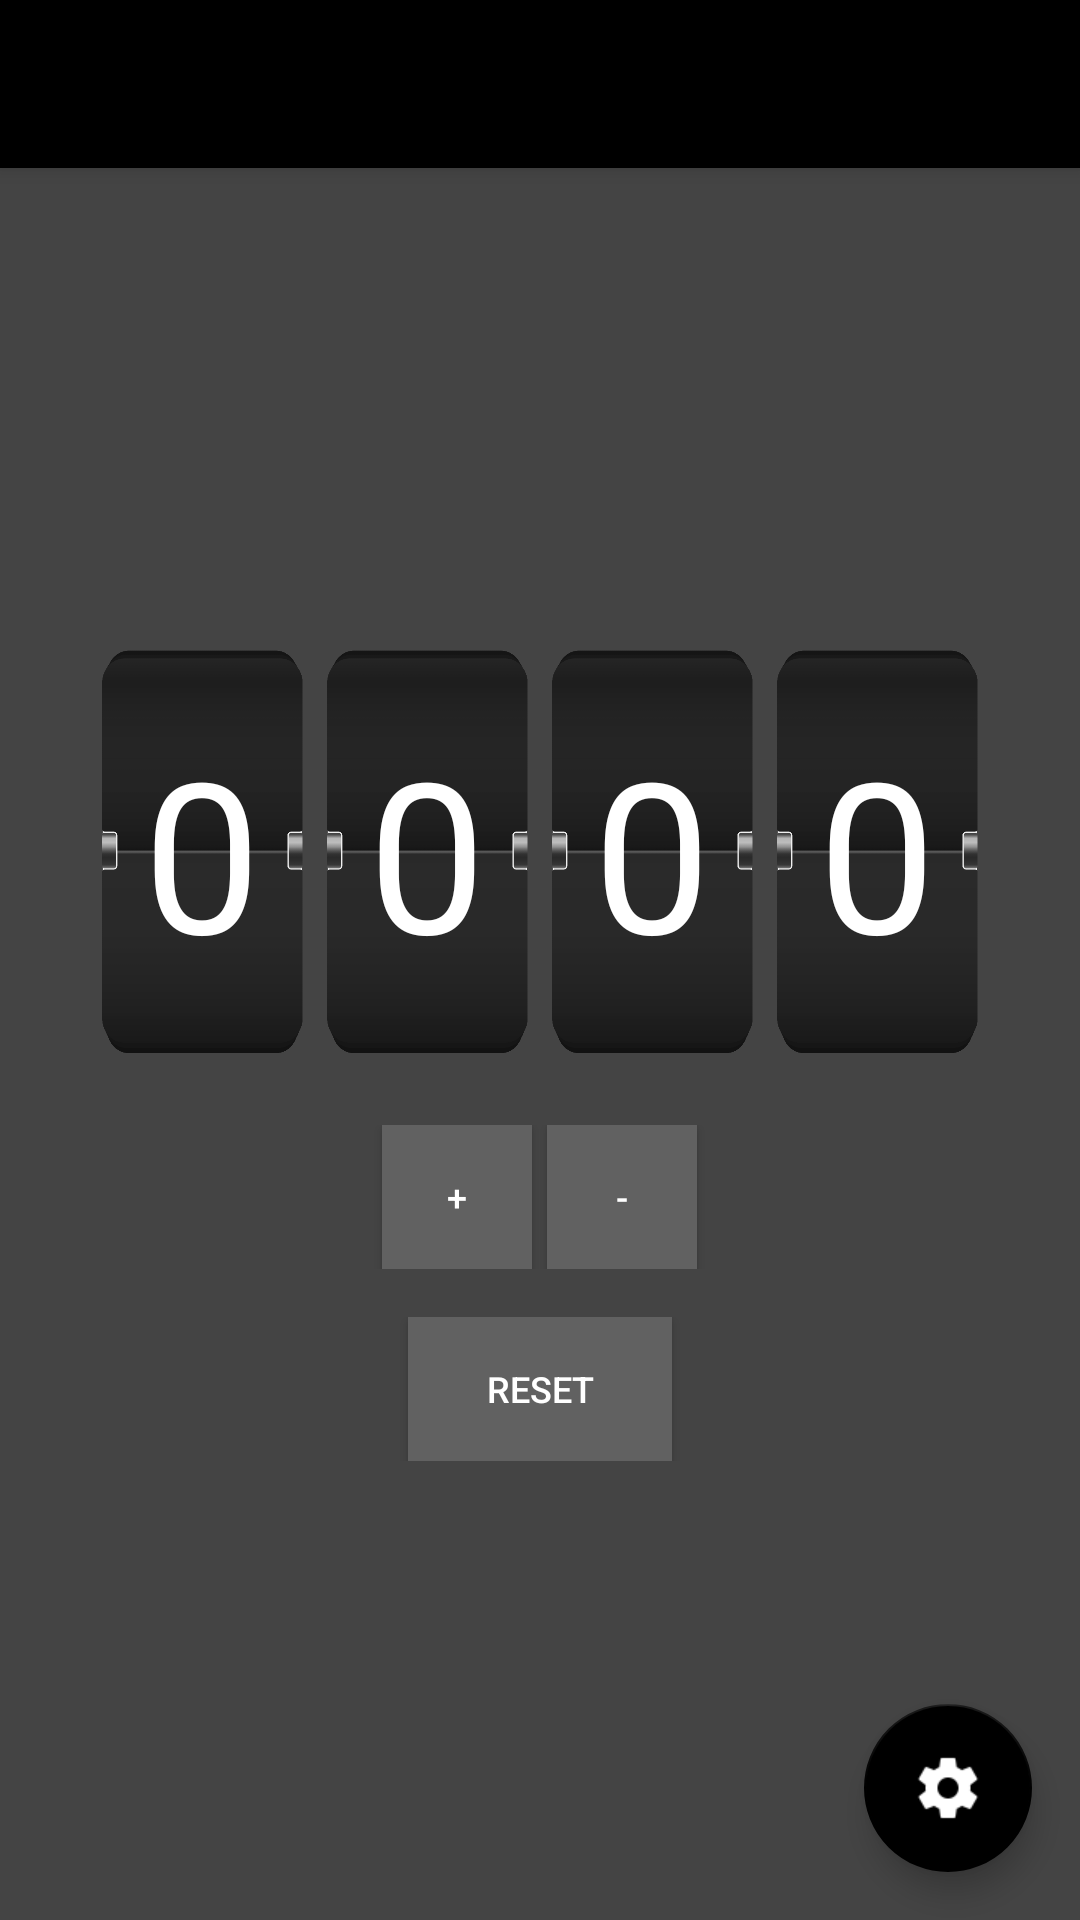

Where icons sit on this 1080x1920 app screen, as (x1, y1, x2, y2):
settings: (864, 1704, 1032, 1872)
